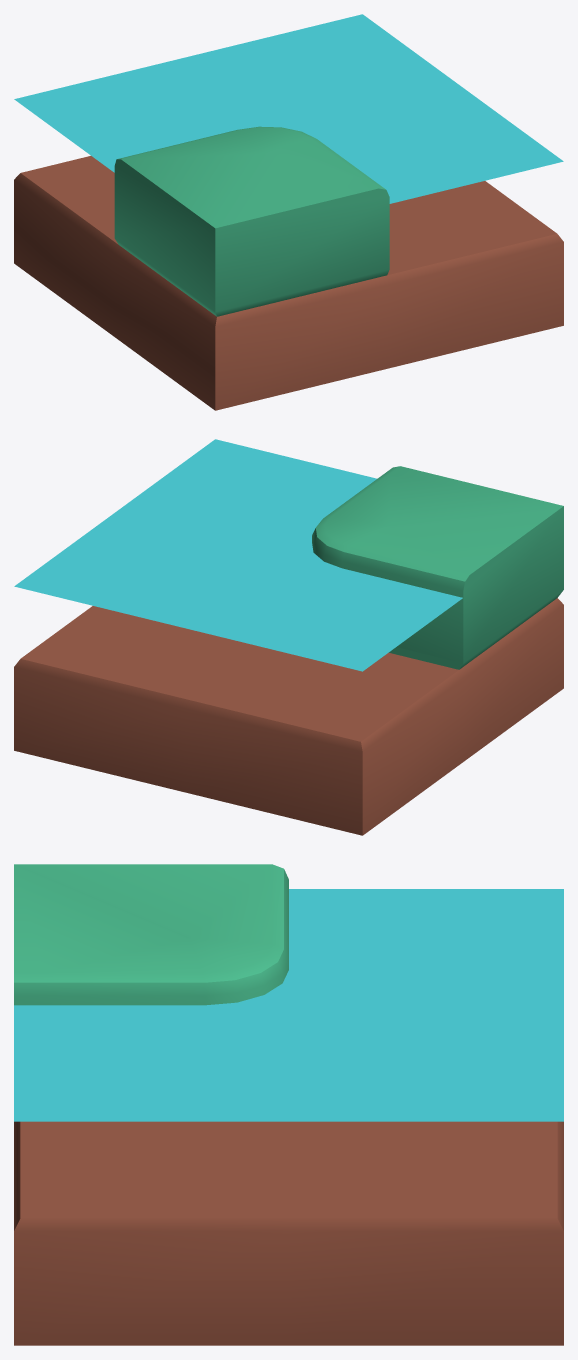
Rendered from kaykit-square-forest-wateroutercorner-nosides.glb.
3 views of the same model, one above another, from view 1: azimuth 30°, elevation 25°; view 2: azimuth 150°, elevation 25°; view 3: azimuth 270°, elevation 25° (orthographic). The views are drawn at different scales.
Visible parts, largest first — view 1: square_forest_waterOuterCorner_noSides; view 2: square_forest_waterOuterCorner_noSides; view 3: square_forest_waterOuterCorner_noSides.
Boxes of the visible parts, box(x1,y1,x2,y2) form: square_forest_waterOuterCorner_noSides: box(14, 14, 563, 410); square_forest_waterOuterCorner_noSides: box(14, 439, 563, 835); square_forest_waterOuterCorner_noSides: box(14, 864, 563, 1345).
Size of the model in its own units: 2 by 0.9998 by 2.
